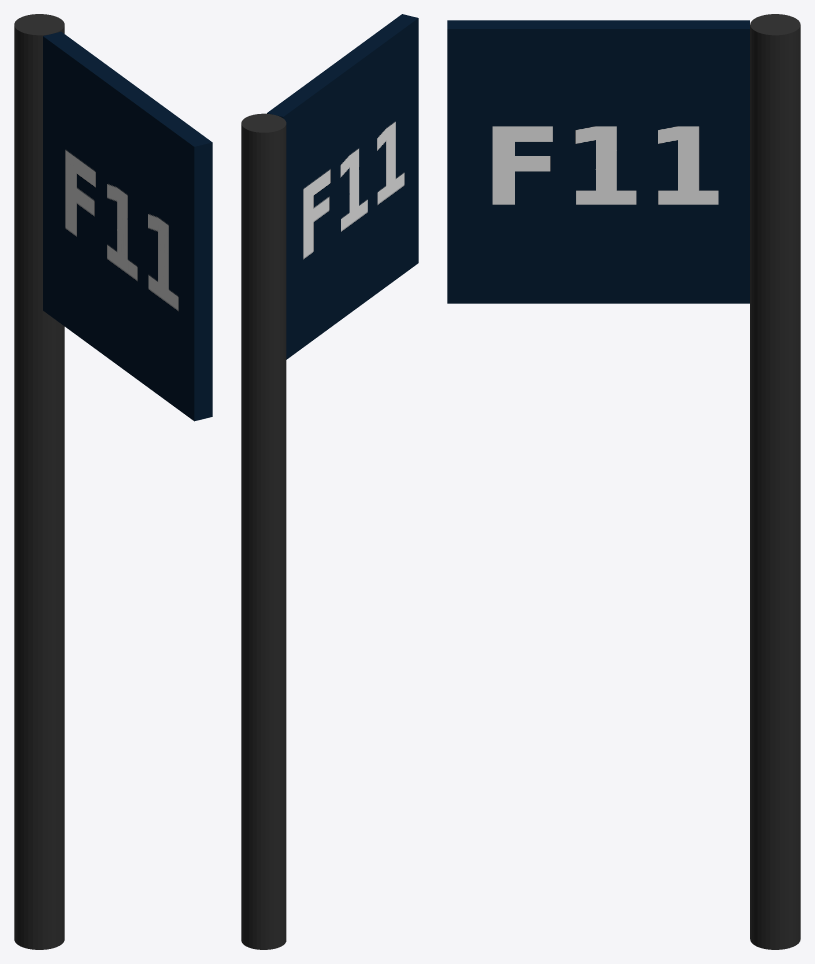
The model's file is start_flag.dae.
The picture shows the model from 3 angles, left to right: view 1: azimuth 30°, elevation 25°; view 2: azimuth 150°, elevation 25°; view 3: azimuth 270°, elevation 25°; orthographic projection. The views are drawn at different scales.
Visible parts, largest first — view 1: flag; view 2: flag; view 3: flag.
Boxes of the visible parts, x1,y1,x2,y2 form: flag: [14, 14, 212, 949]; flag: [241, 14, 418, 949]; flag: [447, 14, 800, 949].
Bounding box in the file's own units: 0.1 × 0.7 × 2.
Materials: 2 (1 with a texture image).
